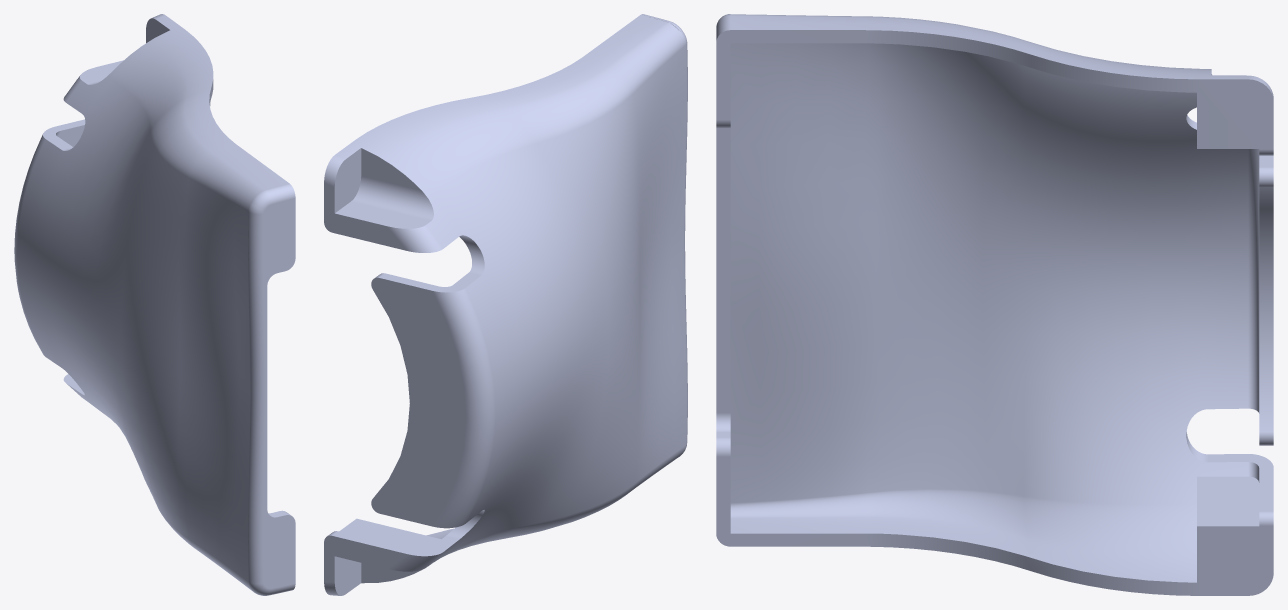
3 views of the same model, side by side, from view 1: azimuth 30°, elevation 25°; view 2: azimuth 150°, elevation 25°; view 3: azimuth 270°, elevation 25° (orthographic). The views are drawn at different scales.
Visible parts, largest first — view 1: Body1; view 2: Body1; view 3: Body1.
Boxes of the visible parts, bbox=[...] form: Body1: bbox=[14, 14, 295, 595]; Body1: bbox=[324, 14, 687, 595]; Body1: bbox=[716, 14, 1273, 595].
Bounding box in the file's own units: 0.03 × 0.0782 × 0.0765.
